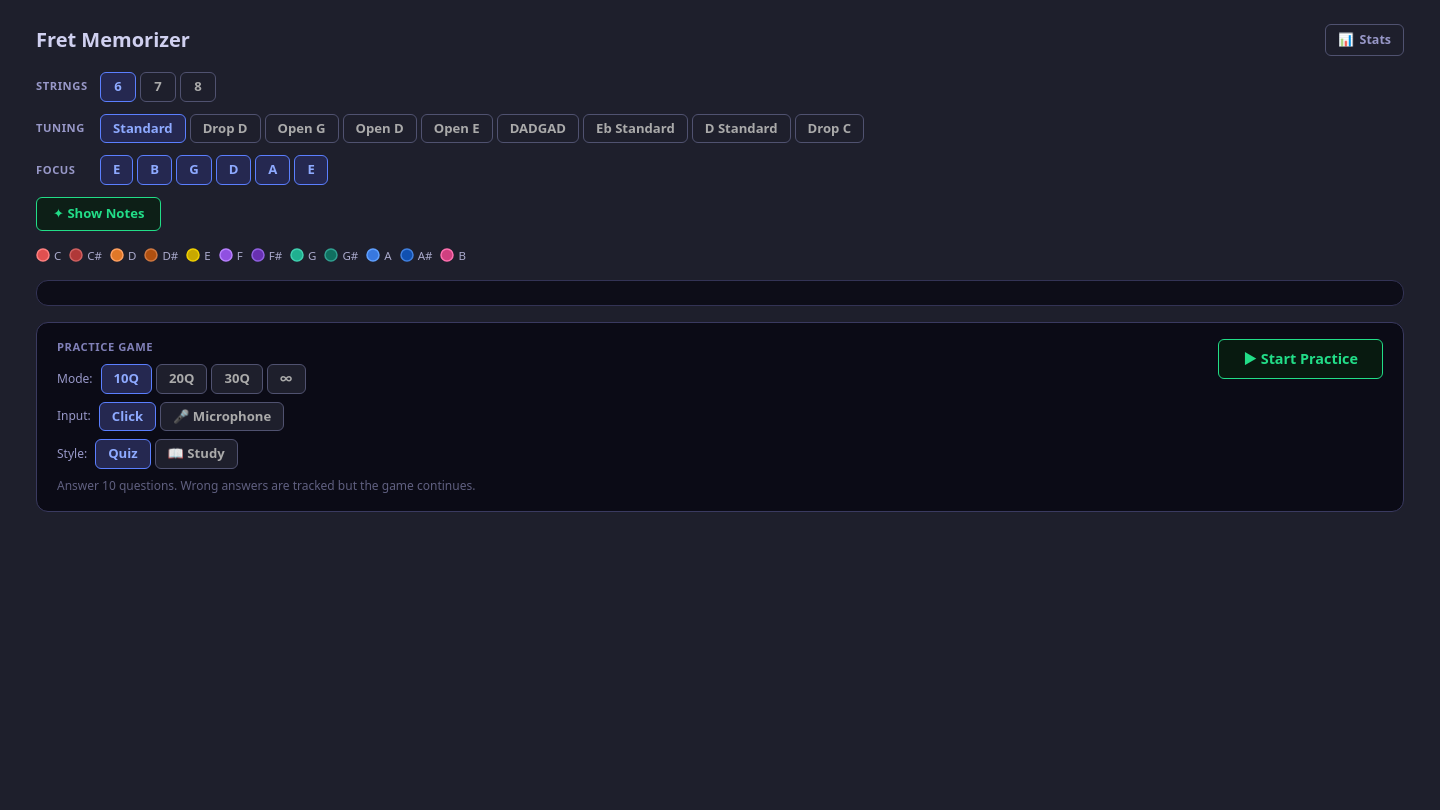
Test: SessionChart › renders an SVG bar chart when session history is present
What coordinates should you click on to do the following:
click the button "📊 Stats"
I would click on:
 (1364, 40)
Its box is x1=1325 y1=24 x2=1404 y2=56.
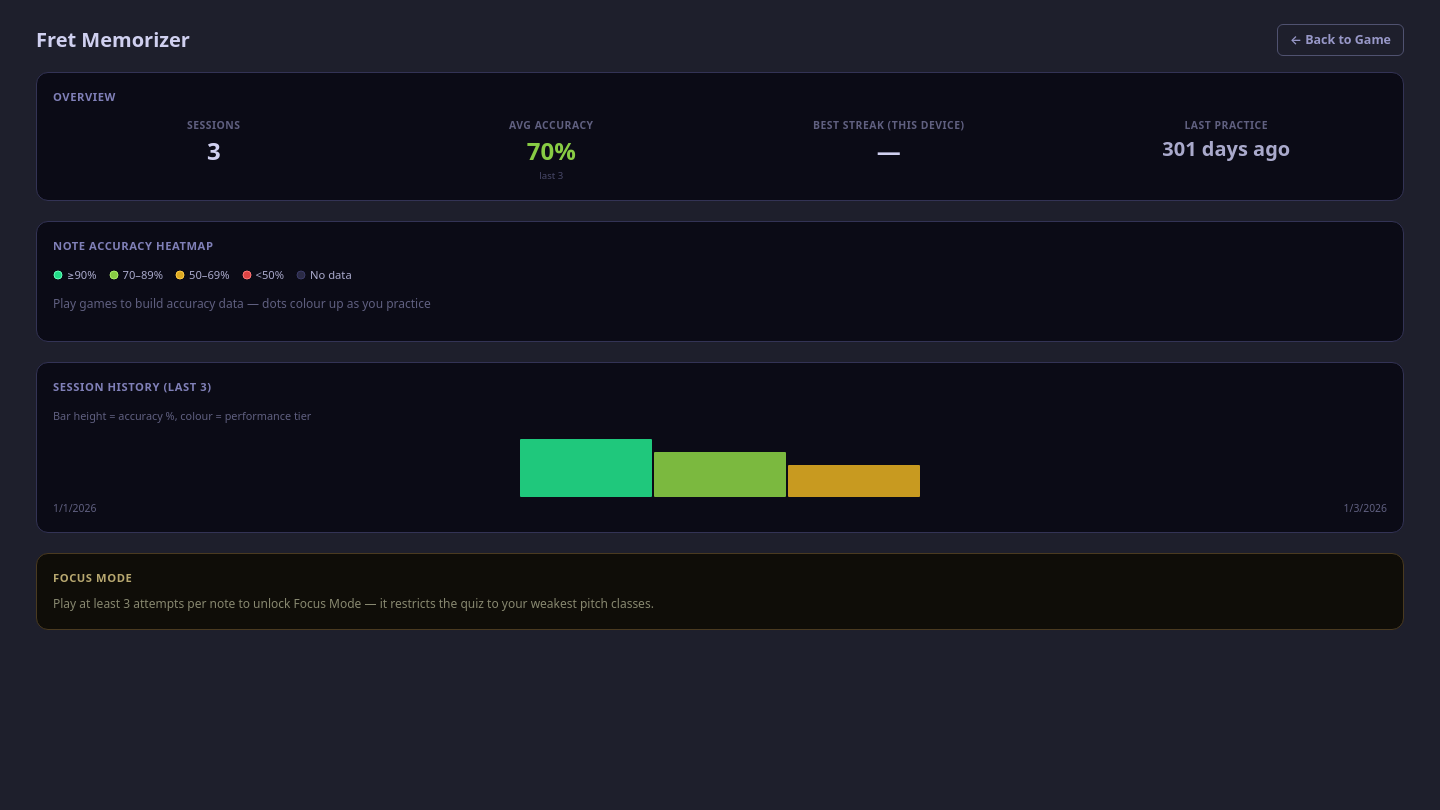
Result: the icon named "Session history bar chart" is shown at x1=53 y1=432 x2=1387 y2=496
